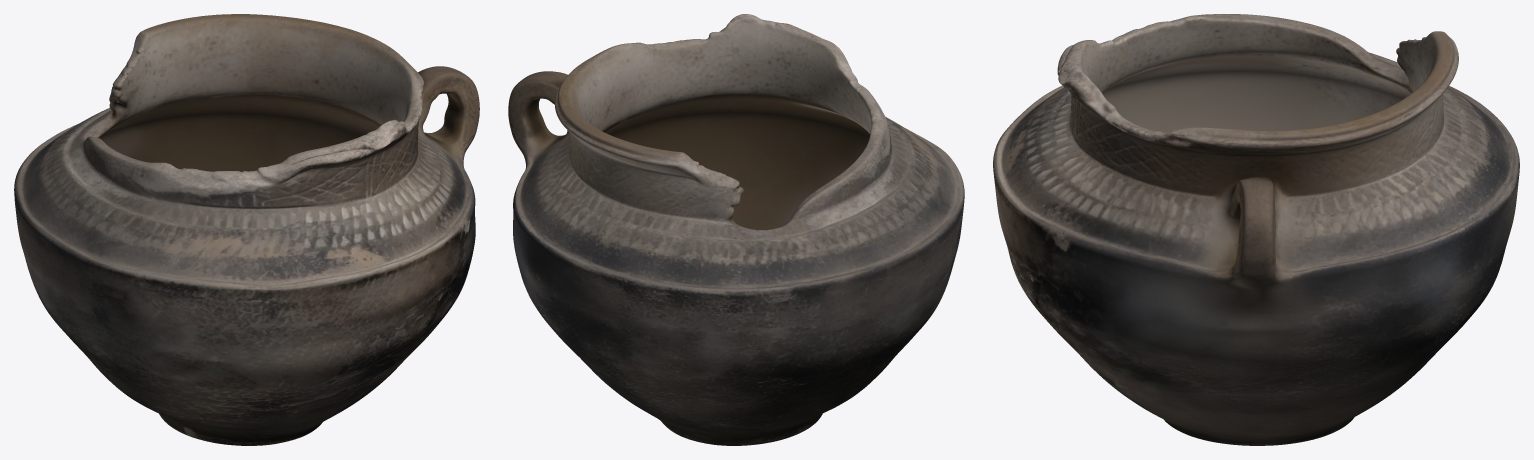
Rendered from 045-arheologicheskaya-chashka-s-ruchkoy.glb.
3 views of the same model, side by side, from view 1: azimuth 30°, elevation 25°; view 2: azimuth 150°, elevation 25°; view 3: azimuth 270°, elevation 25° (orthographic). The views are drawn at different scales.
Parts seen in each view (by area): view 1: node_0; view 2: node_0; view 3: node_0.
Part boxes in pixels (x1=…): node_0: x1=14, y1=14, x2=479, y2=445; node_0: x1=508, y1=14, x2=964, y2=445; node_0: x1=993, y1=14, x2=1519, y2=445.
Size of the model in its own units: 1.09 by 0.8 by 1.03.
1 material, 1 textured.
